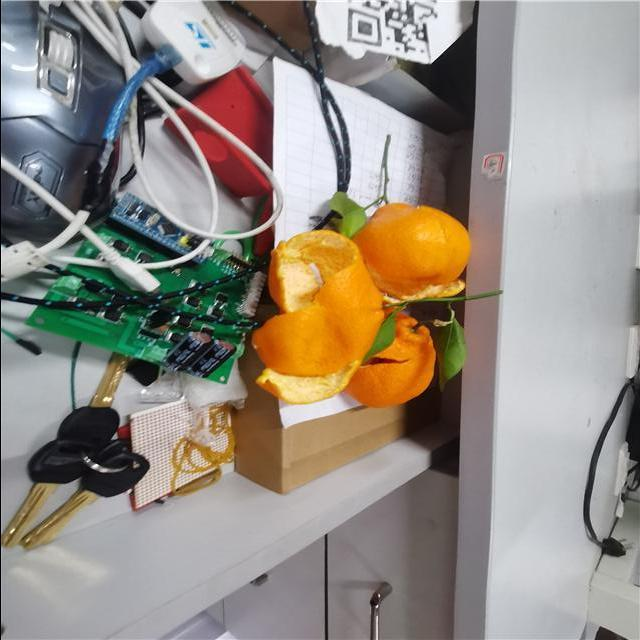orange peel: (249, 230, 381, 407), (349, 202, 474, 304), (342, 306, 436, 408)
